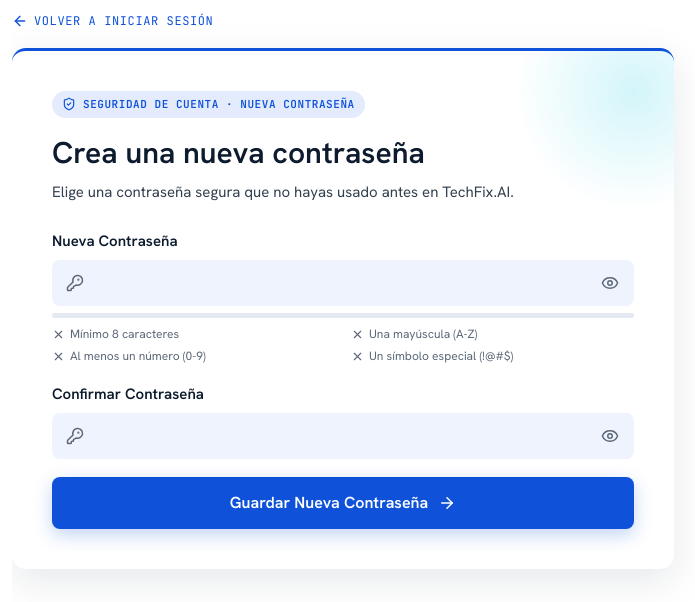
it: restablecer contraseña › envía token y contraseña y confirma el cambio
Type "Nueva#Clave2026" into the password field labelled "Nueva Contraseña" at (343, 283), box [52,260,634,306]
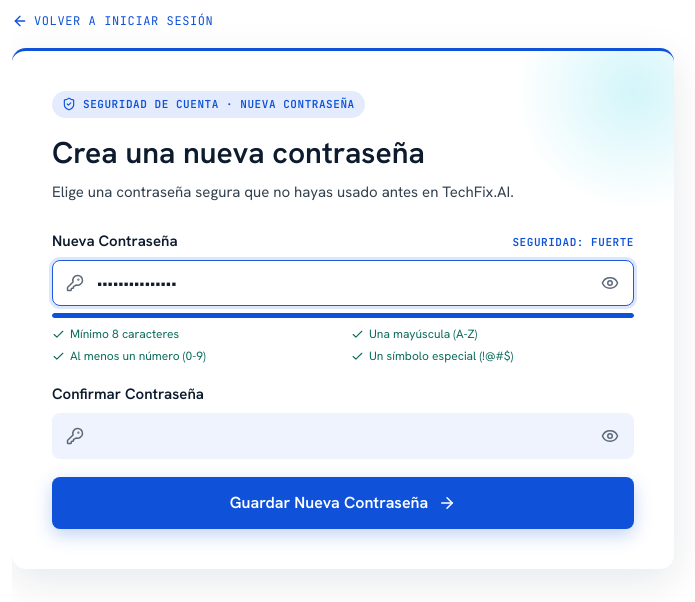
Type "Nueva#Clave2026" into the password field labelled "Confirmar Contraseña" at (343, 436), box [52,412,634,459]
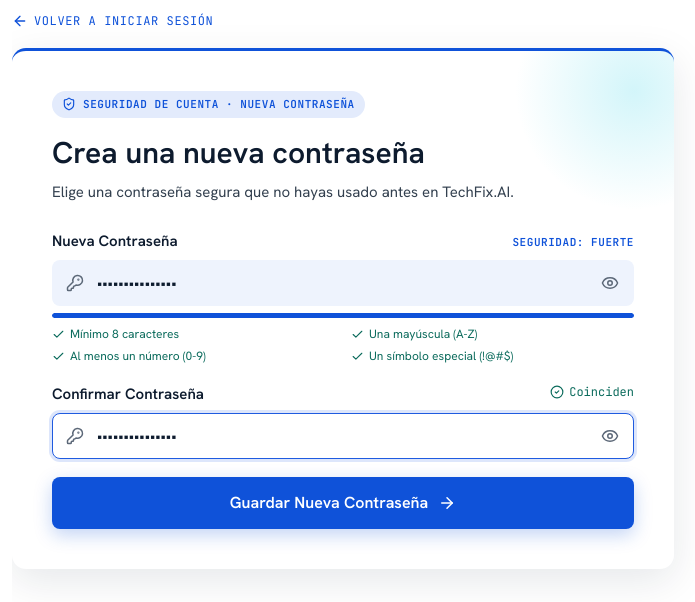
Click the button "Guardar Nueva Contraseña" at (343, 503), box [52,477,634,529]
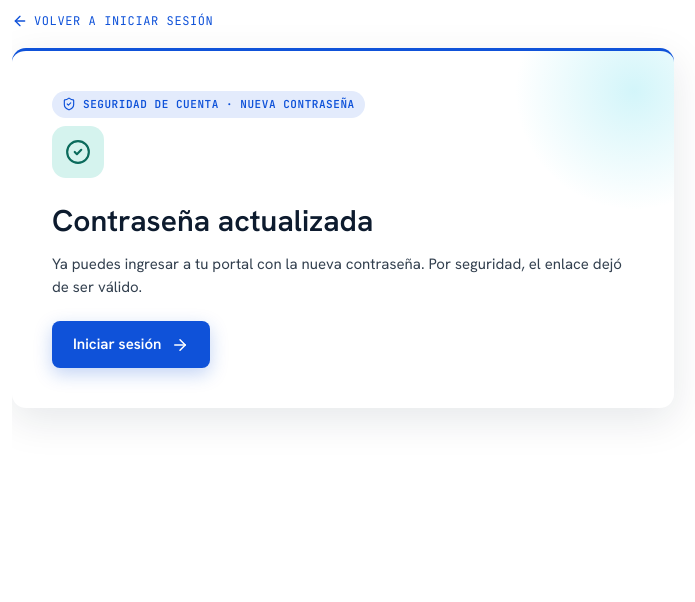
expect the heading "Contraseña actualizada" is shown: met, box [52,204,373,239]
